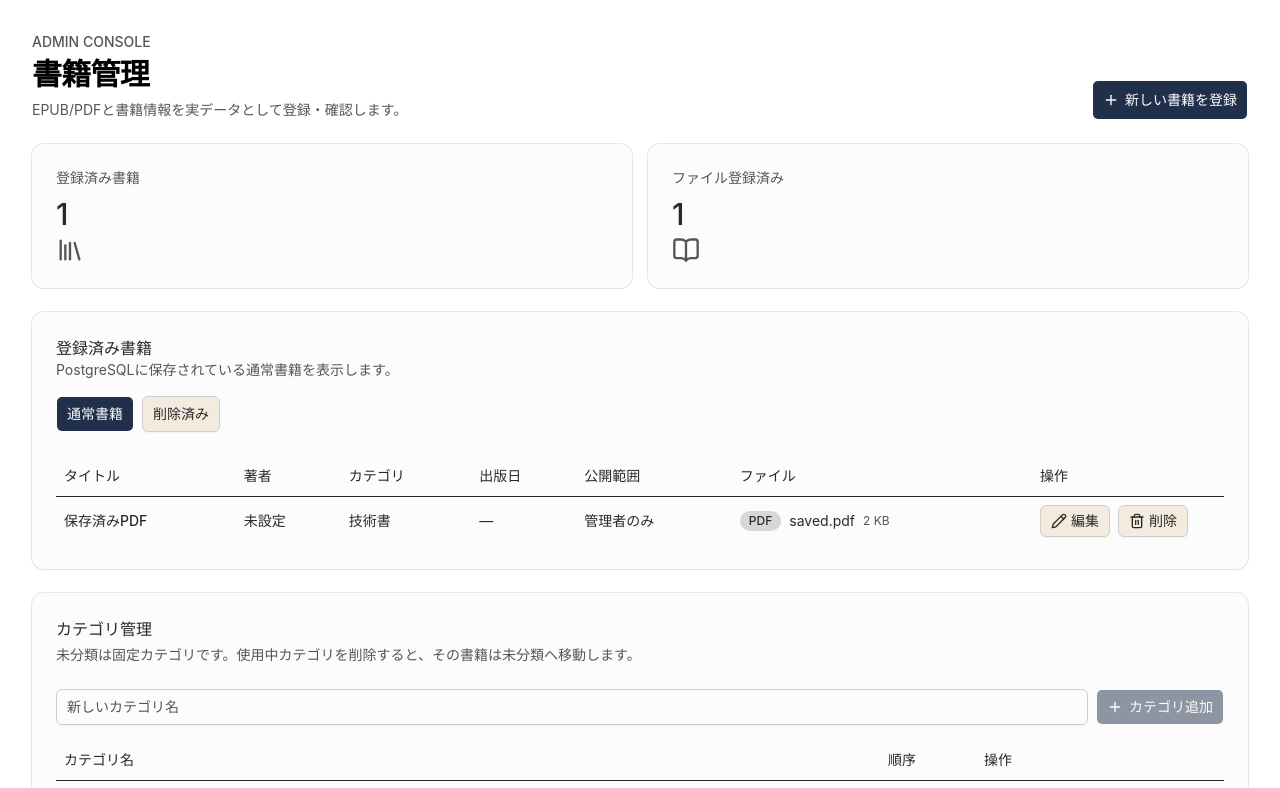
Admin persisted book management › 通常書籍を論理削除し、削除済み一覧から復元できる
Click the button "削除" at (1153, 520), box [1118,504,1188,536]
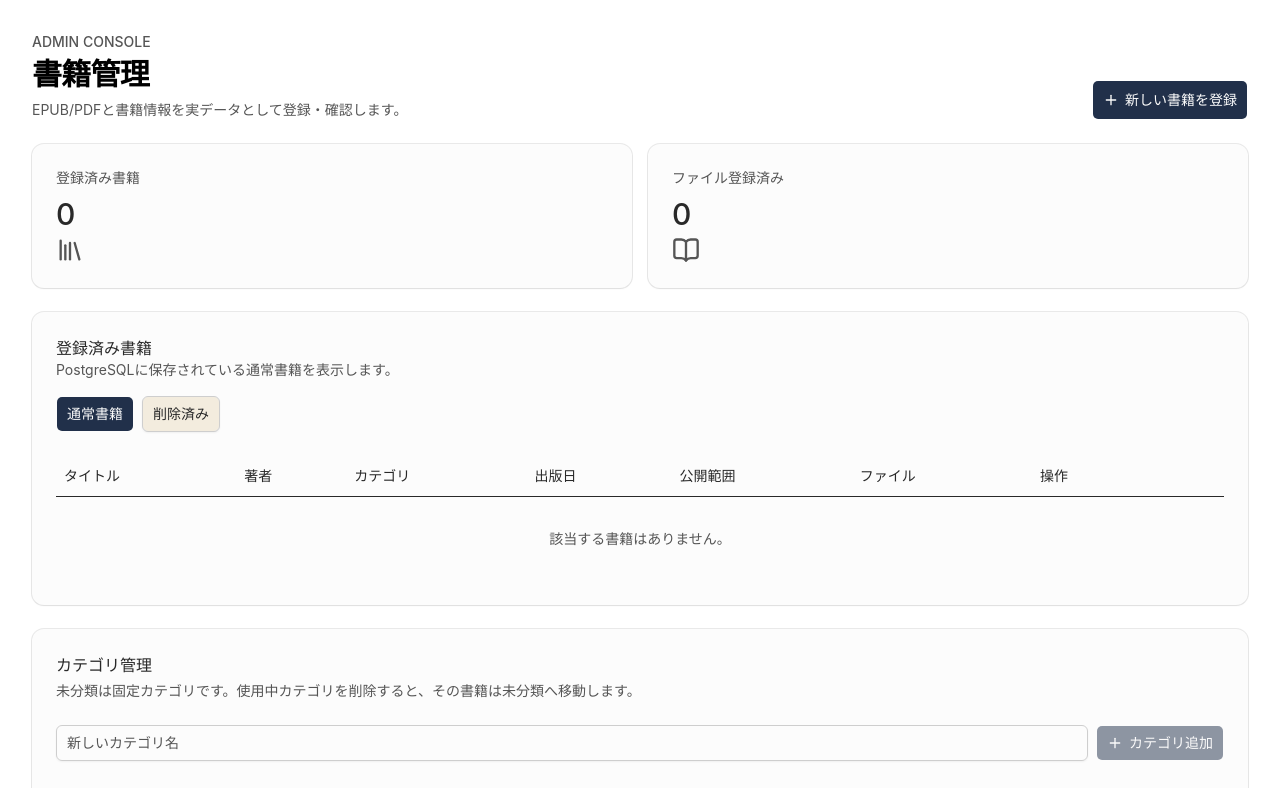
Expected: the text "該当する書籍はありません。" is shown, [56,496,1224,580]
Click the button "削除済み" at (181, 414), box [142,396,220,432]
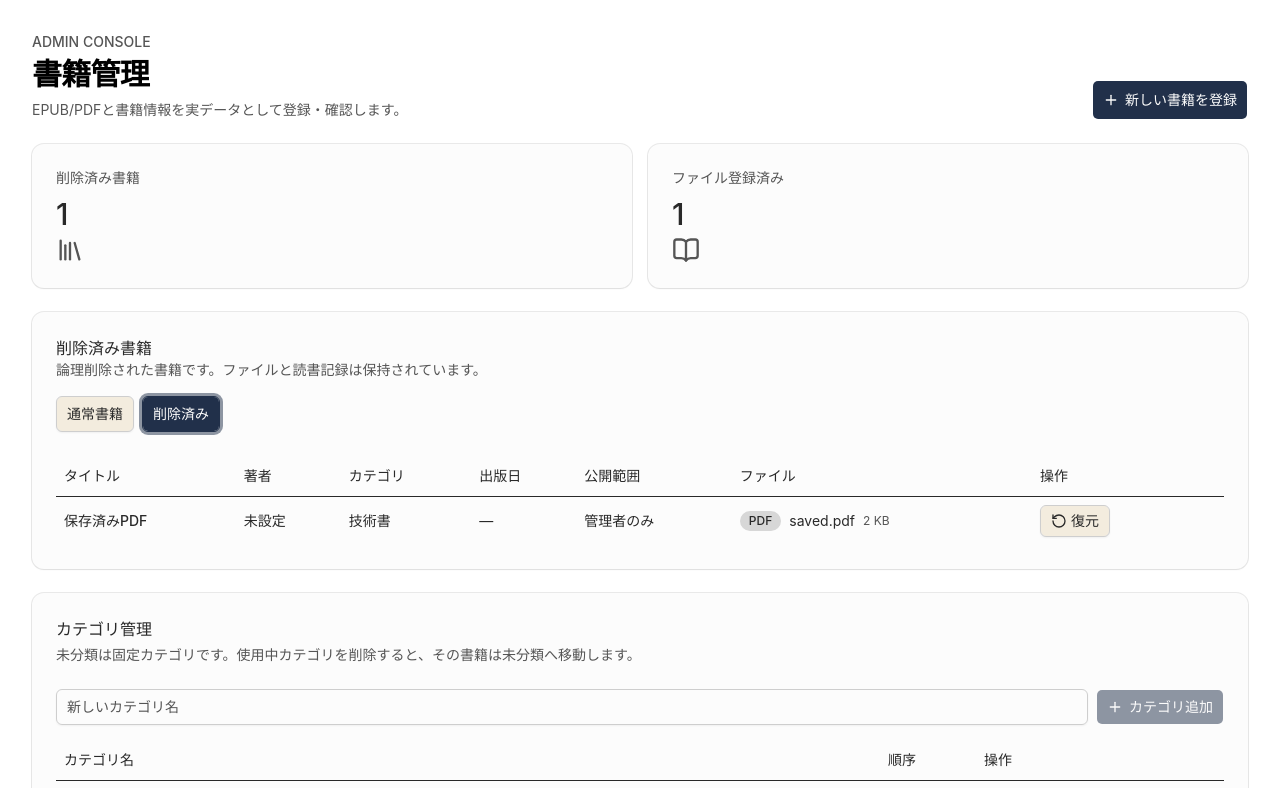
Expected: the text "保存済みPDF" is shown, [56,496,236,544]
Click the button "復元" at (1075, 520), box [1040,504,1110,536]
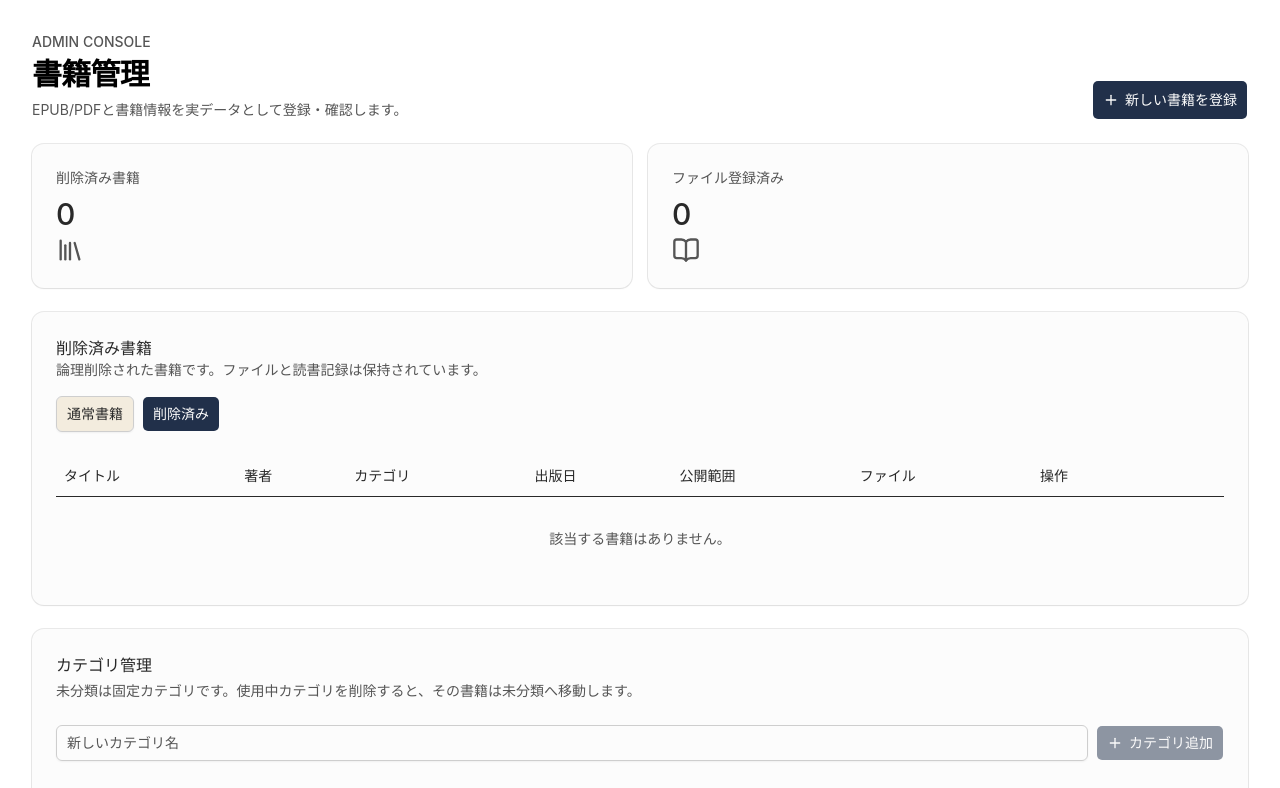
Expected: the text "該当する書籍はありません。" is shown, [56,496,1224,580]
